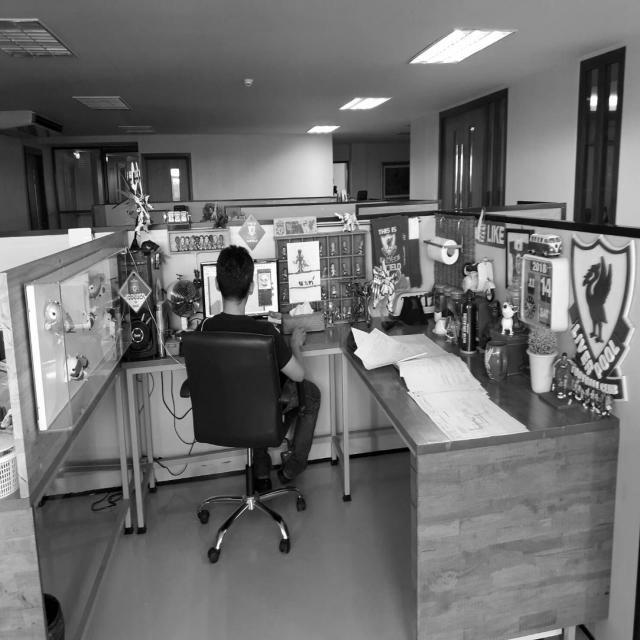table: (8, 205, 636, 408)
